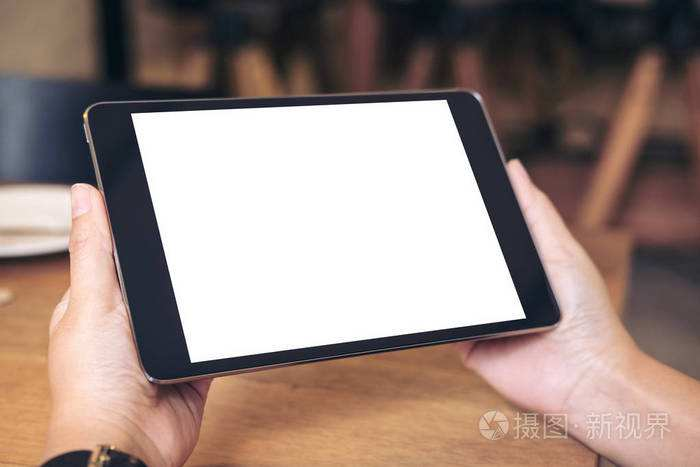pad: (29, 85, 658, 462)
